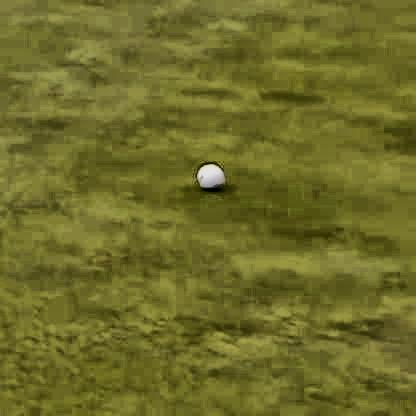golfball: (193, 159, 221, 187)
